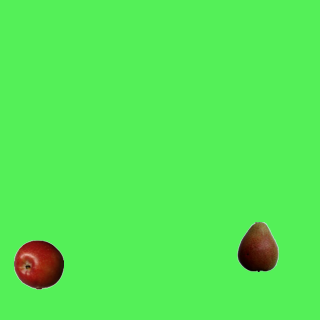Apple Braeburn: (13, 239, 63, 289)
Pear Forelle: (232, 221, 282, 271)
